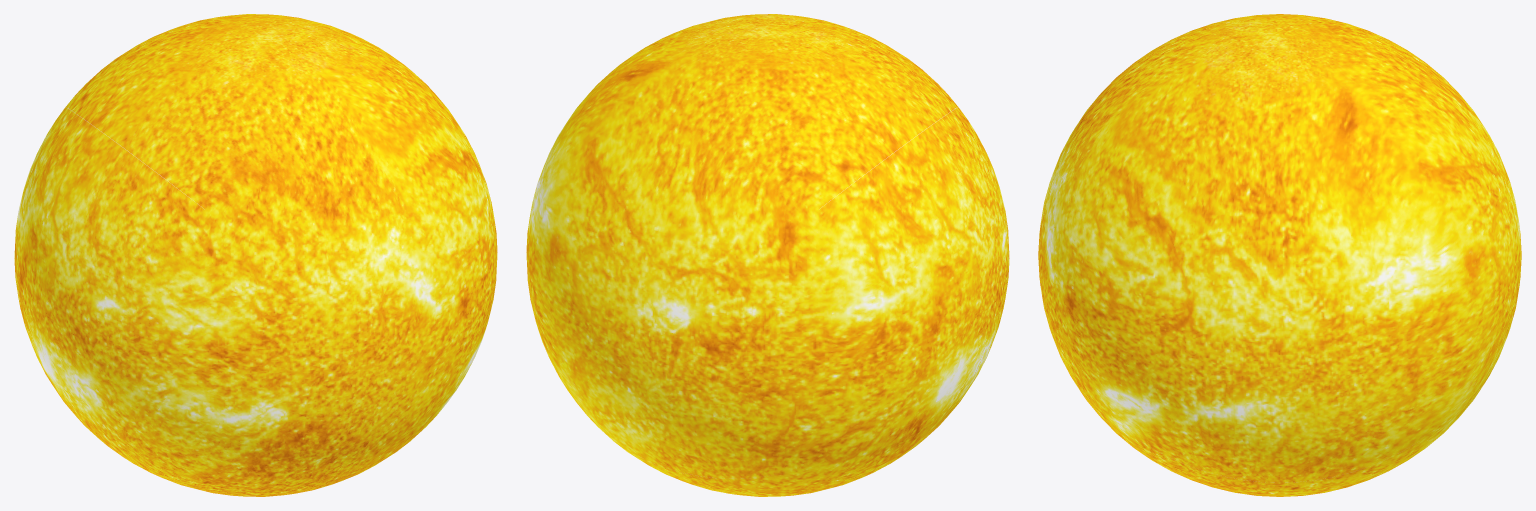
The model's file is sun.gltf.
3 renders of one model, left to right at view 1: azimuth 30°, elevation 25°; view 2: azimuth 150°, elevation 25°; view 3: azimuth 270°, elevation 25°, orthographic.
Bounding box in the file's own units: 1000 × 1000 × 1000.
Materials: 1 (1 with a texture image).
